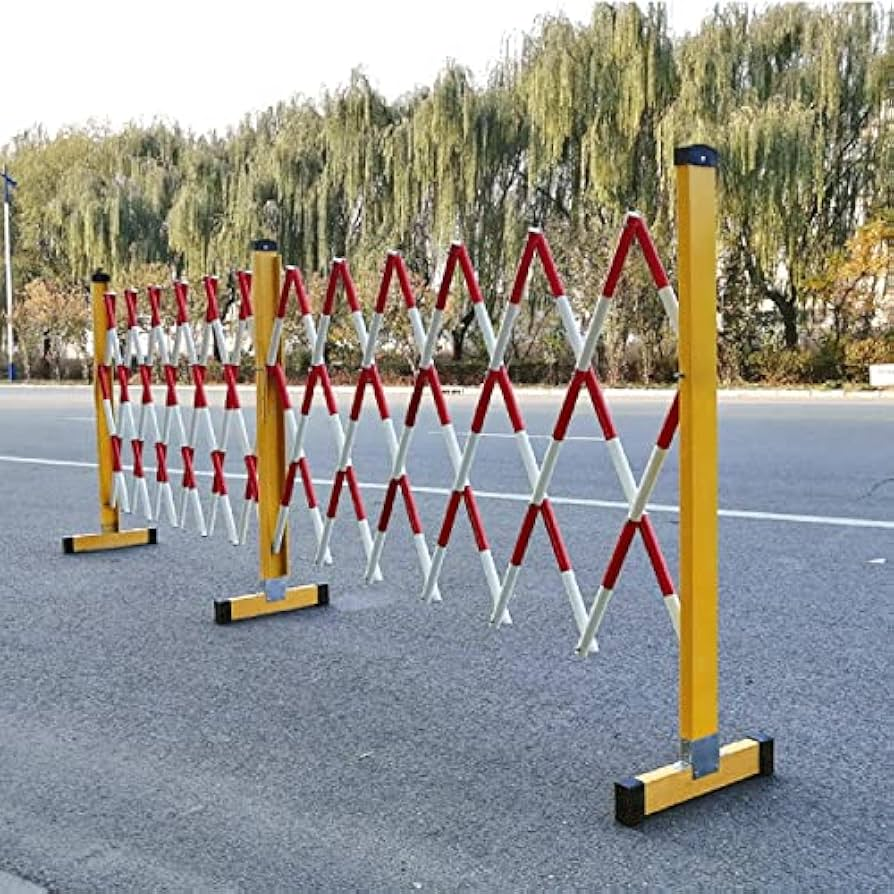Barrier: (39, 127, 797, 817)
